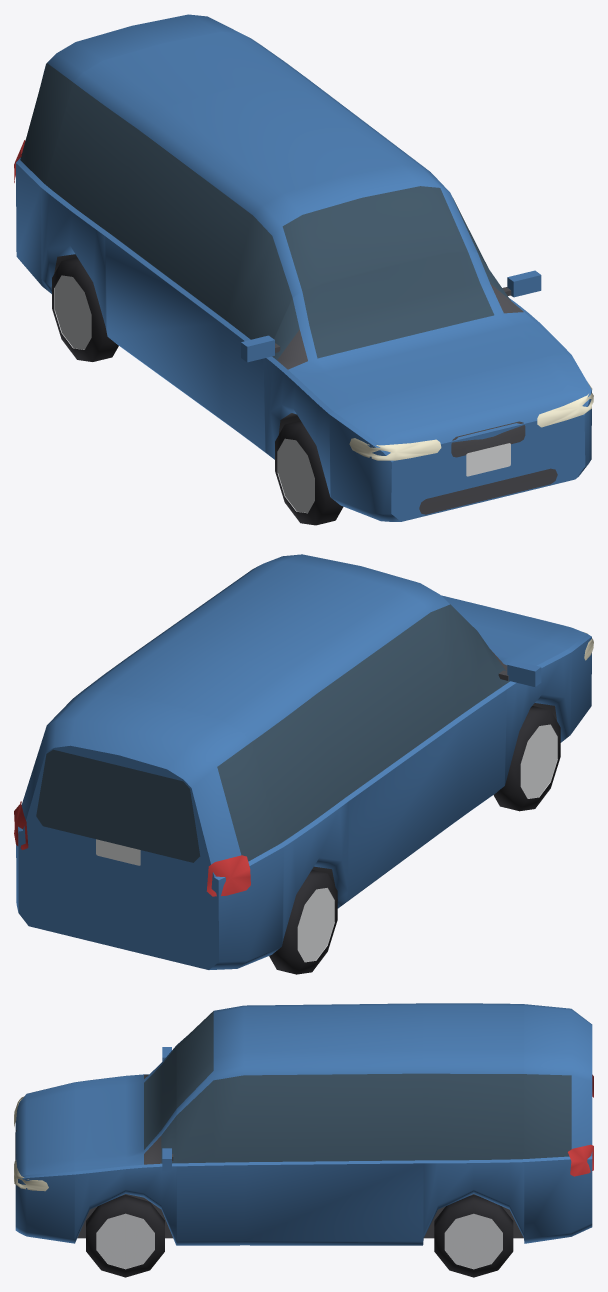
Rendered from site_car5.fbx.
3 renders of one model, top to bottom at view 1: azimuth 30°, elevation 25°; view 2: azimuth 150°, elevation 25°; view 3: azimuth 270°, elevation 25°, orthographic. The views are drawn at different scales.
Parts seen in each view (by area): view 1: a1019/0/site_car5; view 2: a1019/0/site_car5; view 3: a1019/0/site_car5.
Boxes of the visible parts, x1,y1,x2,y2 form: a1019/0/site_car5: (14, 14, 593, 525); a1019/0/site_car5: (14, 554, 593, 974); a1019/0/site_car5: (14, 1003, 593, 1277).
Bounding box in the file's own units: 2.17 × 1.87 × 4.75.
